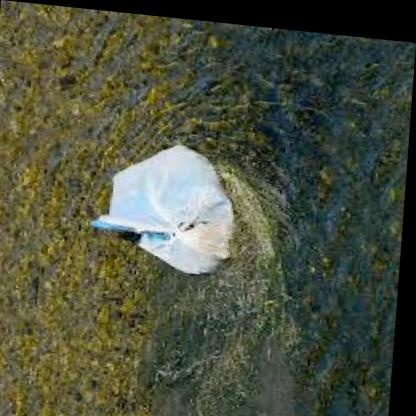trash: (92, 145, 233, 273)
